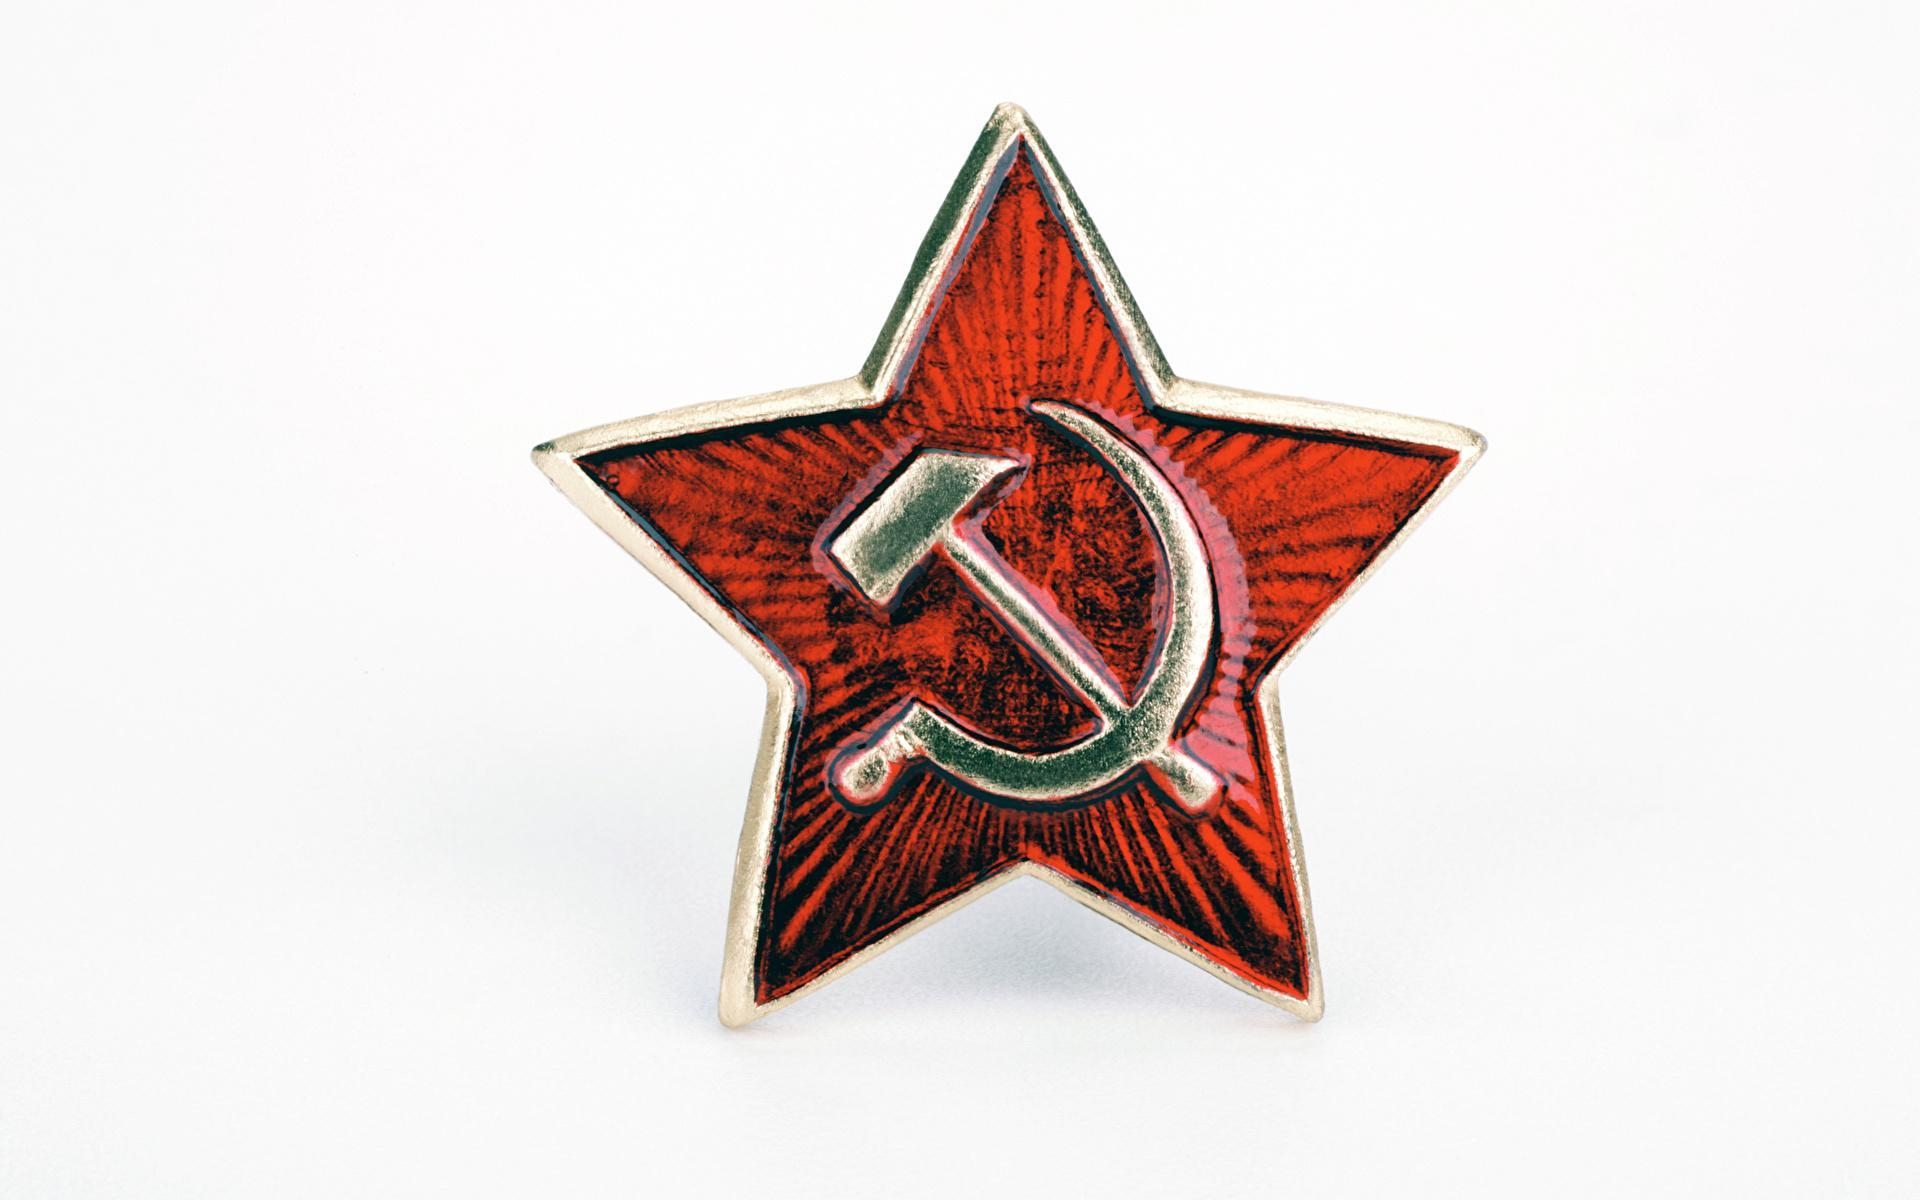foice: (829, 402, 1218, 805)
